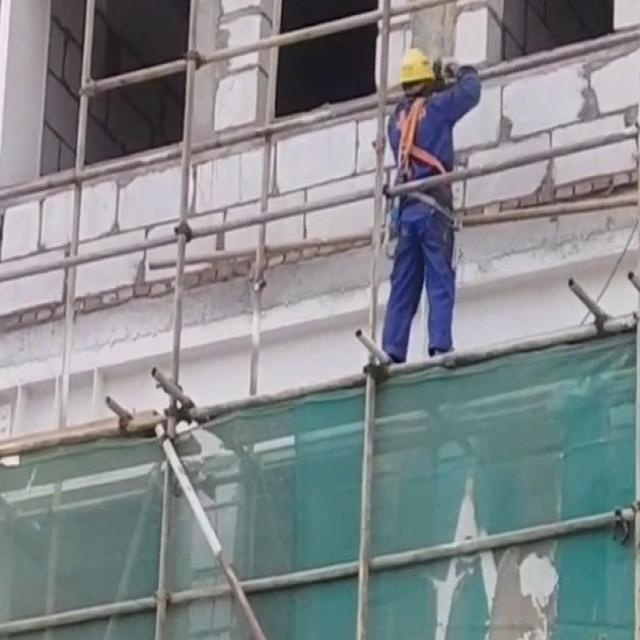Arnes_seguridad: (390, 92, 449, 182)
